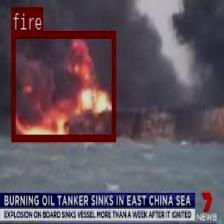fire: (11, 30, 115, 140)
